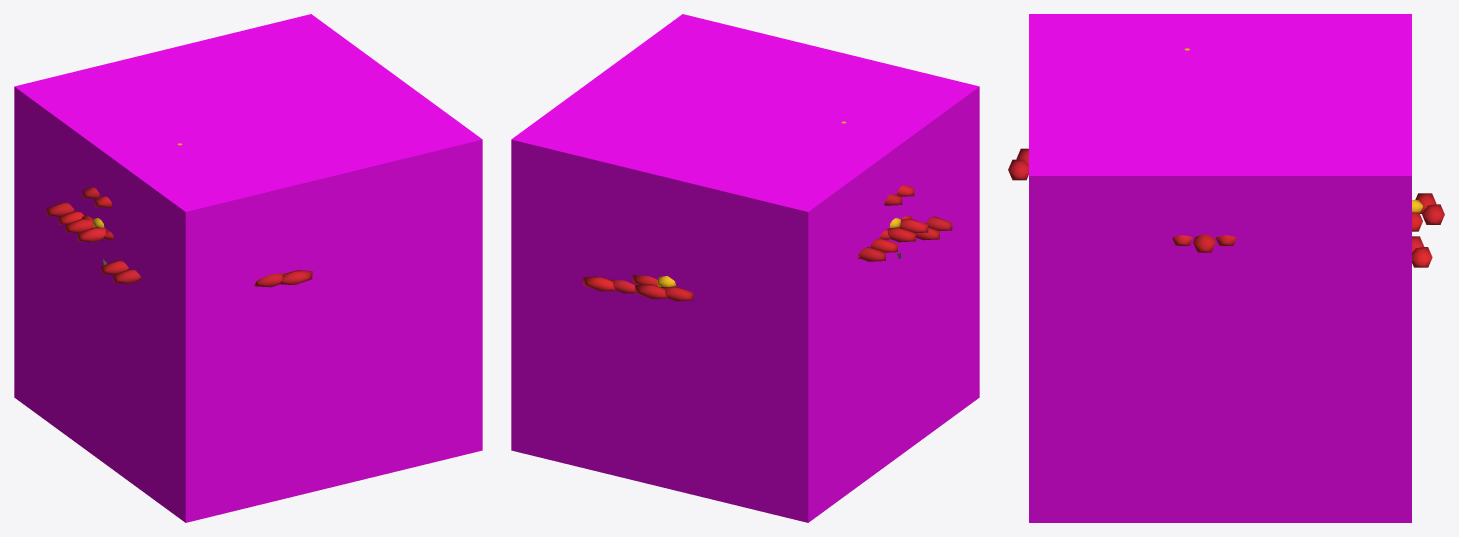
Rendered from PRP_Hibiscus_A.glb.
The picture shows the model from 3 angles, left to right: view 1: azimuth 30°, elevation 25°; view 2: azimuth 150°, elevation 25°; view 3: azimuth 270°, elevation 25°; orthographic projection. The views are drawn at different scales.
Parts seen in each view (by area): view 1: COL_Bush, PICK_Flowers; view 2: COL_Bush, PICK_Flowers; view 3: COL_Bush, PICK_Flowers.
Part boxes in pixels (box(x1,y1,x2,y2)): COL_Bush: box(14, 14, 482, 522); PICK_Flowers: box(46, 143, 312, 287); COL_Bush: box(511, 14, 979, 522); PICK_Flowers: box(583, 121, 952, 301); COL_Bush: box(1029, 14, 1411, 522); PICK_Flowers: box(1008, 48, 1444, 267).
Bounding box in the file's own units: 1.4 × 1.22 × 1.37.
